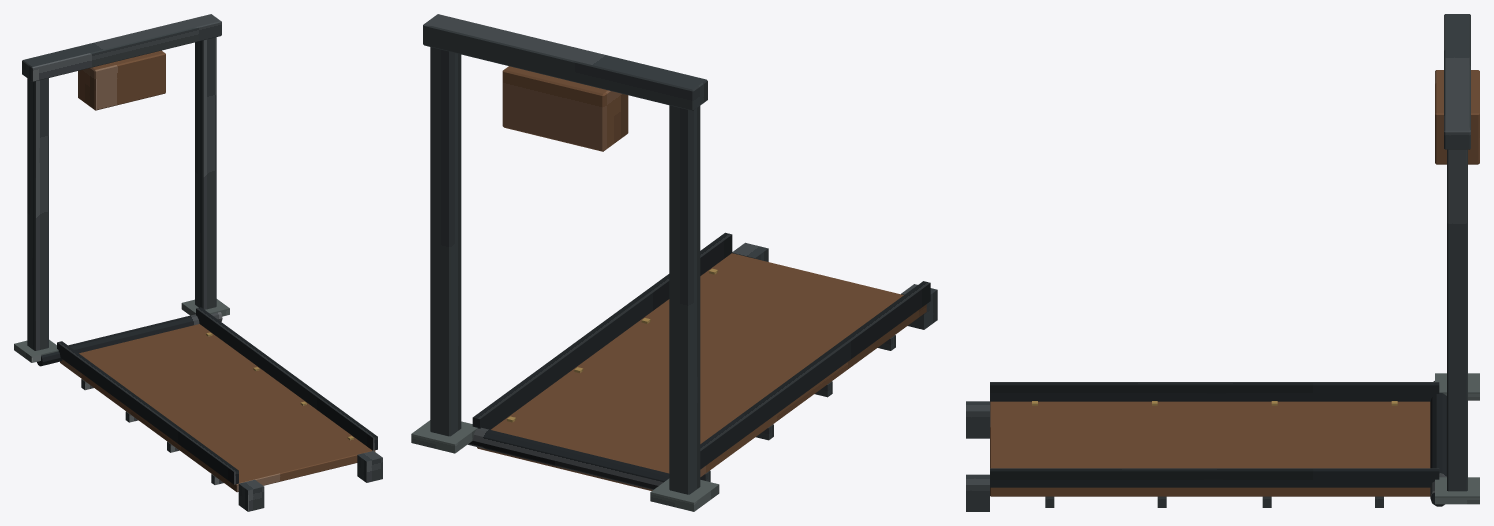
File: sewer_sluice_gate.glb
The picture shows the model from 3 angles, left to right: view 1: azimuth 30°, elevation 25°; view 2: azimuth 150°, elevation 25°; view 3: azimuth 270°, elevation 25°; orthographic projection. The views are drawn at different scales.
Visible parts, largest first — view 1: Leaf, PostL, PostR, Header, Counterweight, HingePin, SeatL, SeatR, PostFootL; view 2: Leaf, PostL, PostR, Header, Counterweight, HingePin, PostFootL, PostFootR, SeatL; view 3: Leaf, PostR, Header, Counterweight, HingePin, PostFootR, SeatL, SeatR.
Boxes of the visible parts, left/top/right/bottom form: Leaf: left=57, top=307, right=377, bottom=492; PostL: left=27, top=78, right=48, bottom=350; PostR: left=195, top=37, right=216, bottom=309; Header: left=22, top=14, right=221, bottom=81; Counterweight: left=78, top=50, right=165, bottom=110; HingePin: left=37, top=312, right=222, bottom=366; SeatL: left=238, top=479, right=264, bottom=511; SeatR: left=357, top=451, right=382, bottom=482; PostFootL: left=14, top=339, right=58, bottom=362; Leaf: left=472, top=232, right=930, bottom=490; PostL: left=669, top=105, right=700, bottom=494; PostR: left=430, top=47, right=461, bottom=436; Header: left=423, top=14, right=707, bottom=110; Counterweight: left=502, top=66, right=628, bottom=151; HingePin: left=468, top=427, right=669, bottom=489; PostFootL: left=650, top=478, right=719, bottom=511; PostFootR: left=411, top=420, right=477, bottom=453; SeatL: left=901, top=284, right=937, bottom=329; Leaf: left=990, top=382, right=1439, bottom=507; PostR: left=1447, top=149, right=1467, bottom=491; Header: left=1444, top=14, right=1470, bottom=149; Counterweight: left=1435, top=70, right=1479, bottom=164; HingePin: left=1430, top=381, right=1446, bottom=506; PostFootR: left=1435, top=477, right=1479, bottom=504; SeatL: left=966, top=401, right=989, bottom=438; SeatR: left=966, top=474, right=989, bottom=511.
Bounding box in the file's own units: 1.94 × 2.93 × 3.43.
Materials: 3 (3 with a texture image).
